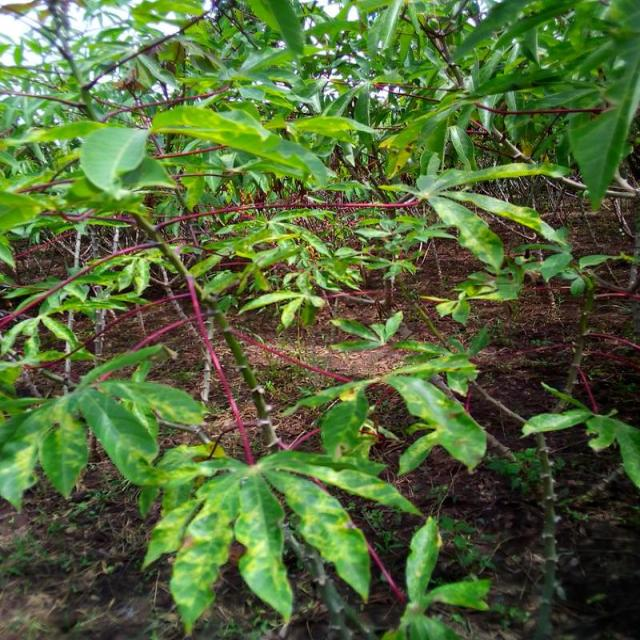cassava leaf: (152, 101, 334, 191), (80, 124, 150, 196)
